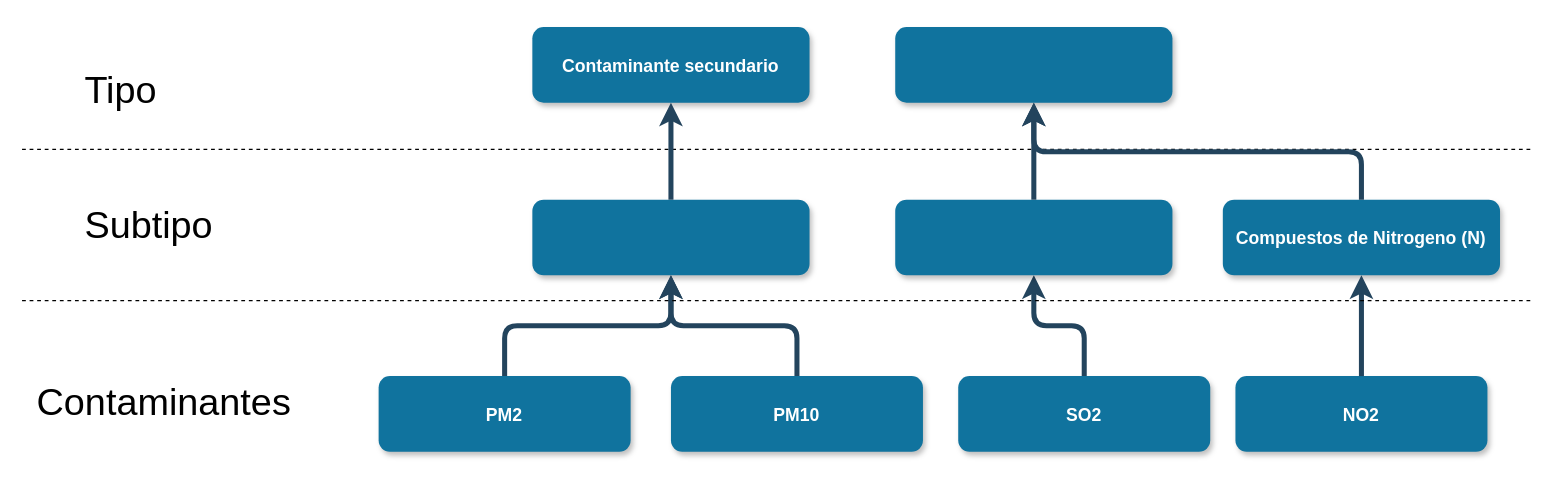
Image size: 1557x481. Some labels were removed from this diagram. Each missing label, with the centre of its shape:
"Compuestos de Azufre (S)" goes at [1034,239].
"Contaminante primario" goes at [1034,66].
"PM" goes at [671,239].
